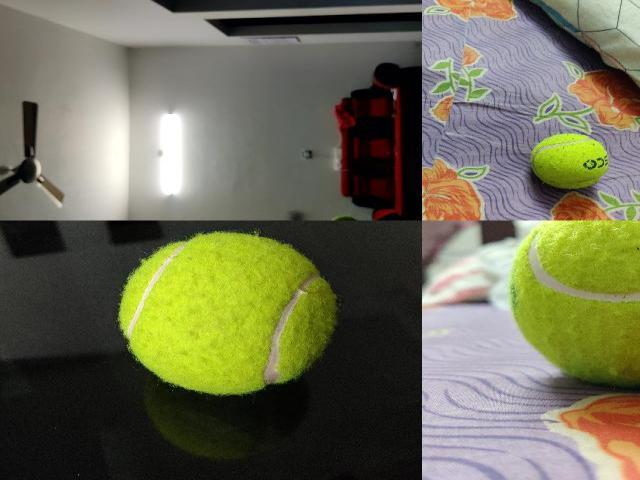tennis-ball: (116, 229, 337, 395), (508, 221, 639, 386), (530, 133, 608, 189)
